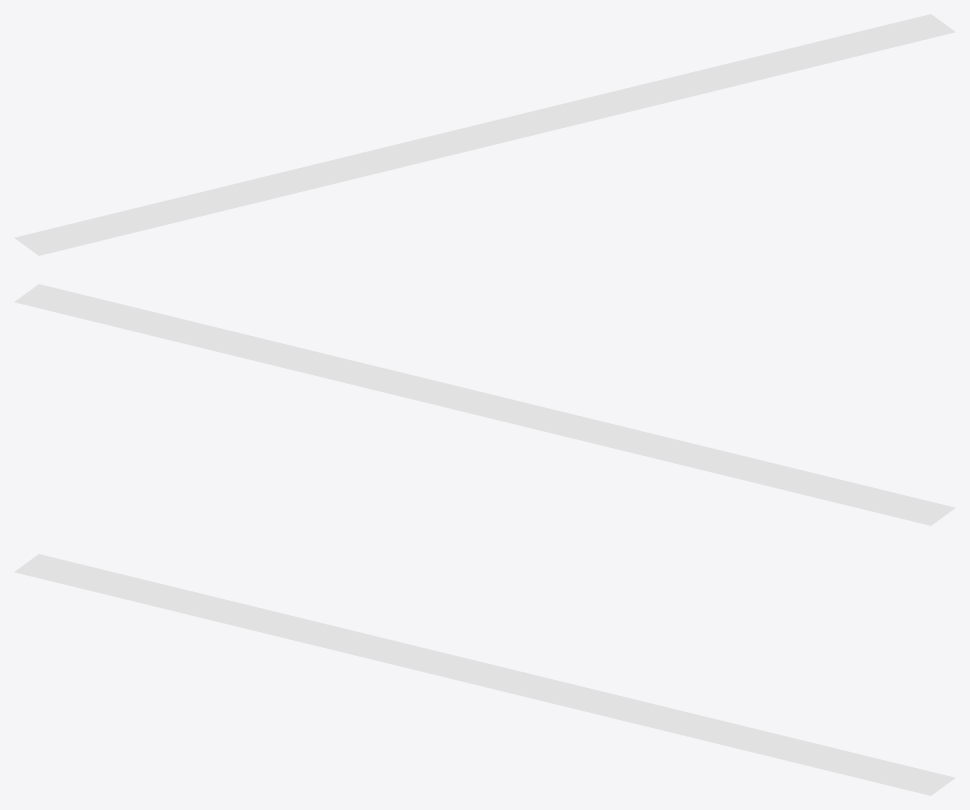
The picture shows the model from 3 angles, top to bottom: view 1: azimuth 30°, elevation 25°; view 2: azimuth 150°, elevation 25°; view 3: azimuth 330°, elevation 25°; orthographic projection.
Parts seen in each view (by area): view 1: Plane01; view 2: Plane01; view 3: Plane01.
Boxes of the visible parts, x1,y1,x2,y2 form: Plane01: (14, 14, 955, 255); Plane01: (14, 284, 955, 525); Plane01: (14, 554, 955, 795).
Size of the model in its own units: 274 by 12.9 by 0.
